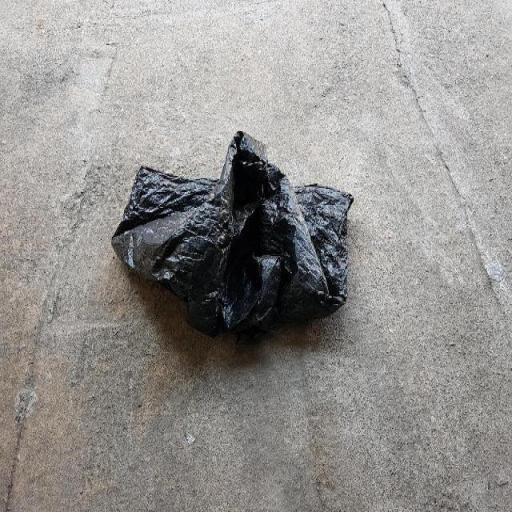plastic-bag: (108, 130, 356, 345)
